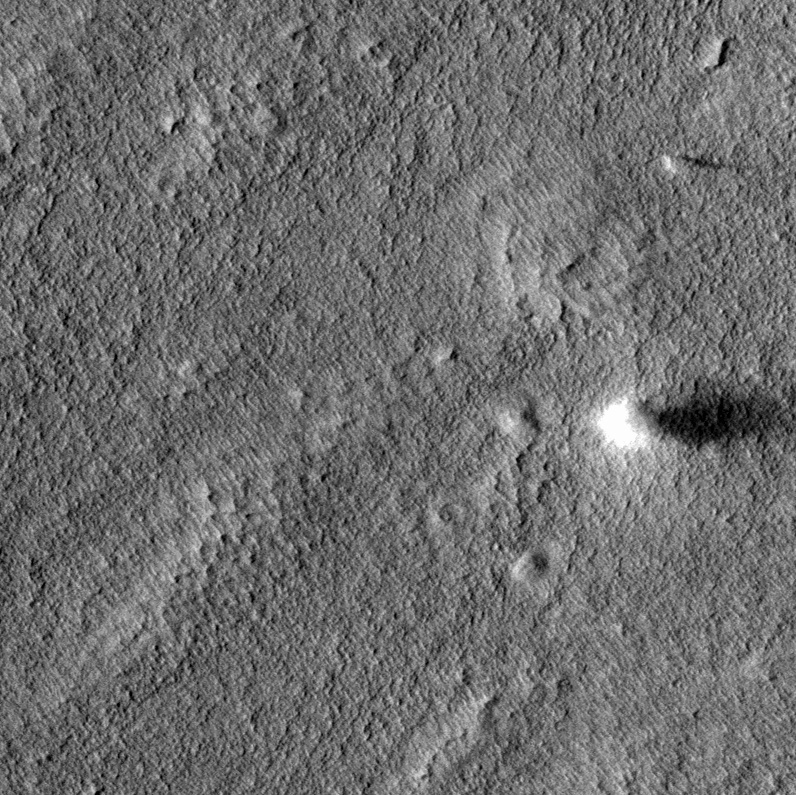dust_devil: (594, 380, 787, 457), (661, 152, 728, 176)
